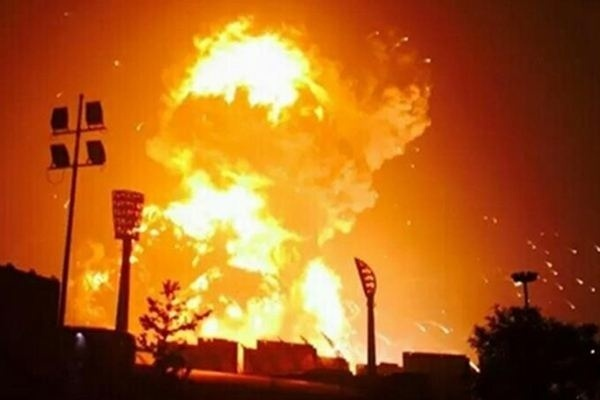fire: (78, 17, 380, 358)
